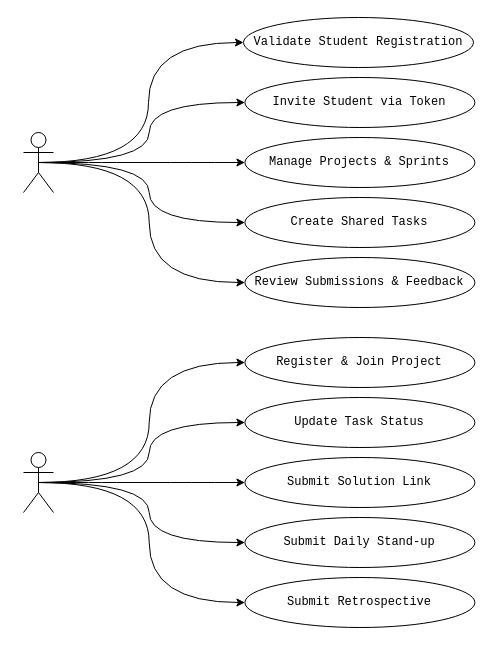
Some shapes in this 493 by 645 pixel diagram are drawn without their labels. The shapes that lost their labels are listed below. From the top down, each one's centre as x and y in pixels, then its label:
the point at 38,162: Teacher
the point at 38,482: Student
